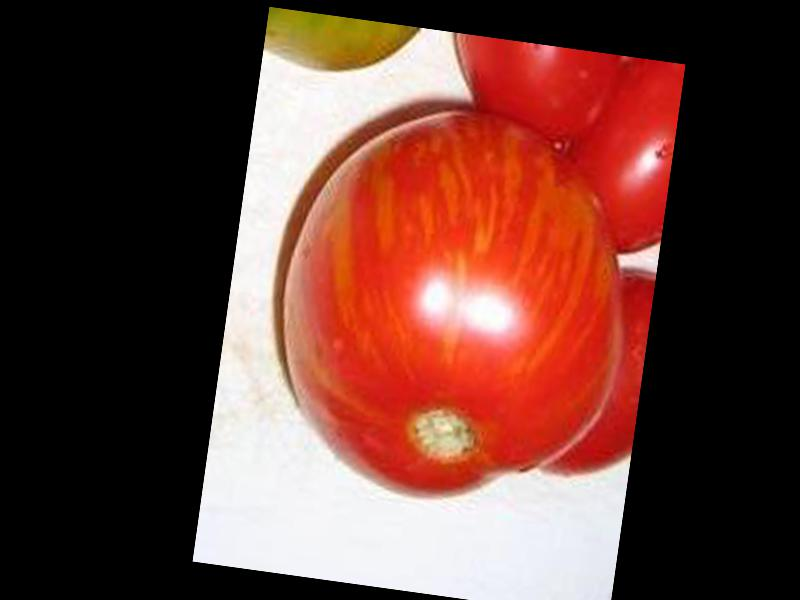Tomato: (258, 86, 652, 527)
